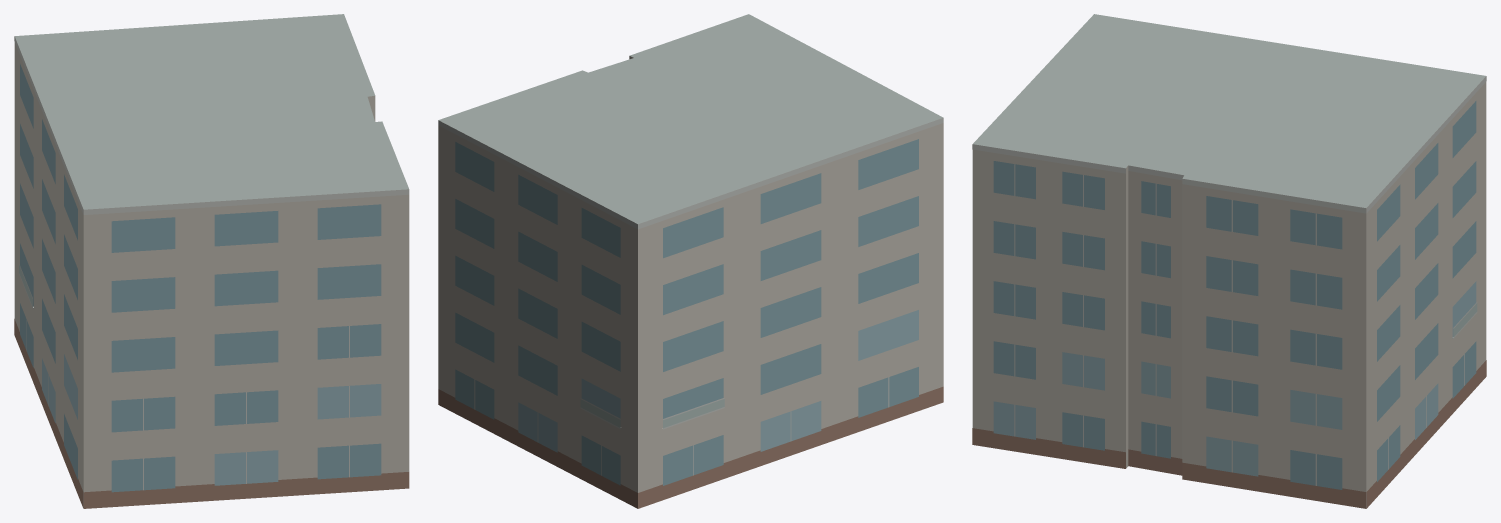
File: survey-upis-32944933.glb
The picture shows the model from 3 angles, left to right: view 1: azimuth 30°, elevation 25°; view 2: azimuth 150°, elevation 25°; view 3: azimuth 270°, elevation 25°; orthographic projection. The views are drawn at different scales.
Parts seen in each view (by area): view 1: survey-upis-32944933.tmp; view 2: survey-upis-32944933.tmp; view 3: survey-upis-32944933.tmp.
Part boxes in pixels (x1,y1,x2,y2): survey-upis-32944933.tmp: [14, 14, 409, 508]; survey-upis-32944933.tmp: [438, 14, 943, 508]; survey-upis-32944933.tmp: [972, 14, 1486, 508].
Bounding box in the file's own units: 18.84 × 13.6 × 21.08.
